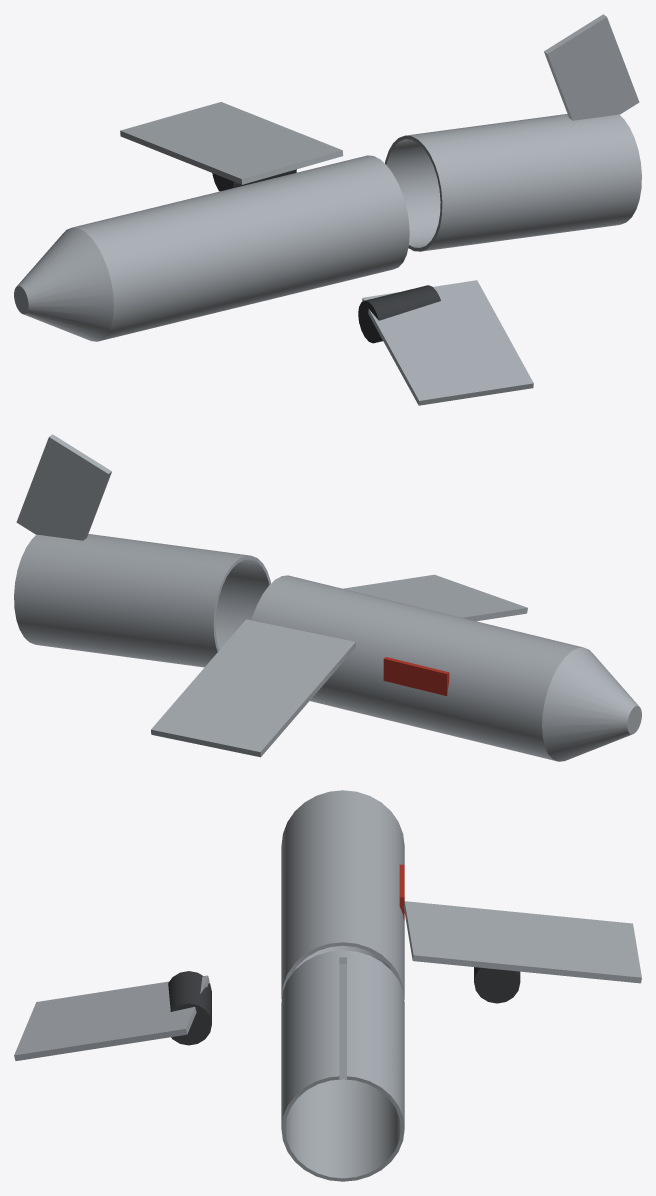
Rendered from plane_wreck.glb.
The picture shows the model from 3 angles, top to bottom: view 1: azimuth 30°, elevation 25°; view 2: azimuth 150°, elevation 25°; view 3: azimuth 270°, elevation 25°; orthographic projection. The views are drawn at different scales.
Parts seen in each view (by area): view 1: plane_wreck_M_Alu, plane_wreck_M_SteelDark; view 2: plane_wreck_M_Alu, plane_wreck_M_RedPaint; view 3: plane_wreck_M_Alu, plane_wreck_M_SteelDark.
Boxes of the visible parts, box(x1,y1,x2,y2) form: plane_wreck_M_Alu: box(14, 14, 641, 405); plane_wreck_M_SteelDark: box(212, 169, 440, 343); plane_wreck_M_Alu: box(14, 434, 641, 761); plane_wreck_M_RedPaint: box(383, 657, 449, 695); plane_wreck_M_Alu: box(14, 790, 641, 1181); plane_wreck_M_SteelDark: box(168, 967, 520, 1045).
Size of the model in its own units: 29.18 by 9.31 by 24.45.
